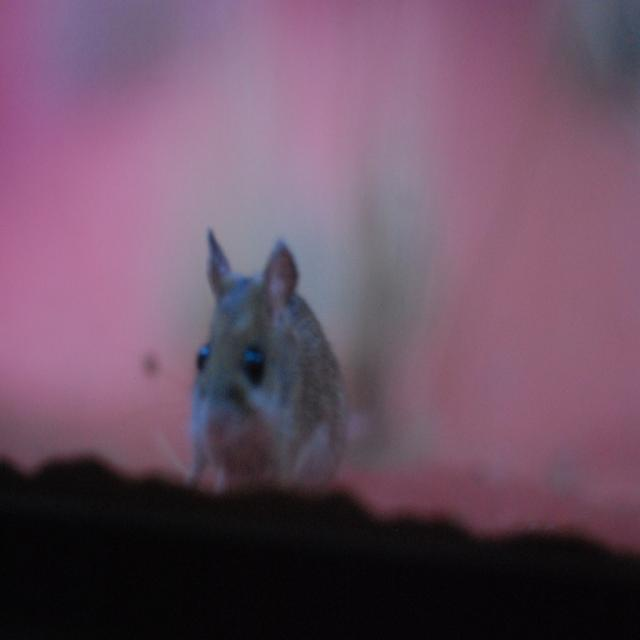rat: (153, 228, 350, 493)
